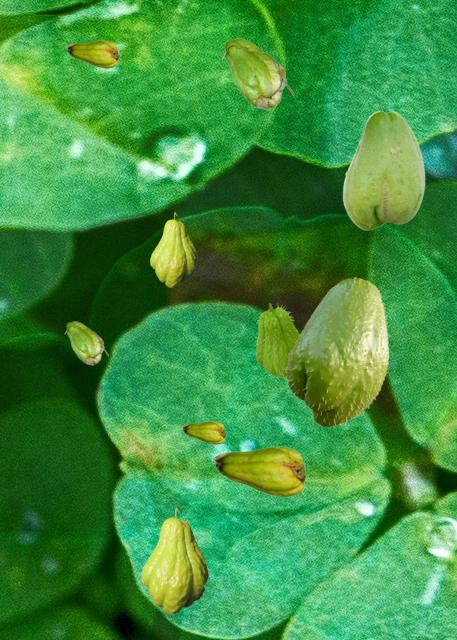sayote: (283, 277, 389, 428), (342, 110, 424, 229), (141, 507, 207, 613), (221, 38, 292, 109), (211, 446, 304, 496), (150, 212, 196, 286), (254, 302, 299, 376), (64, 321, 107, 364), (65, 40, 117, 67), (181, 421, 224, 443)
